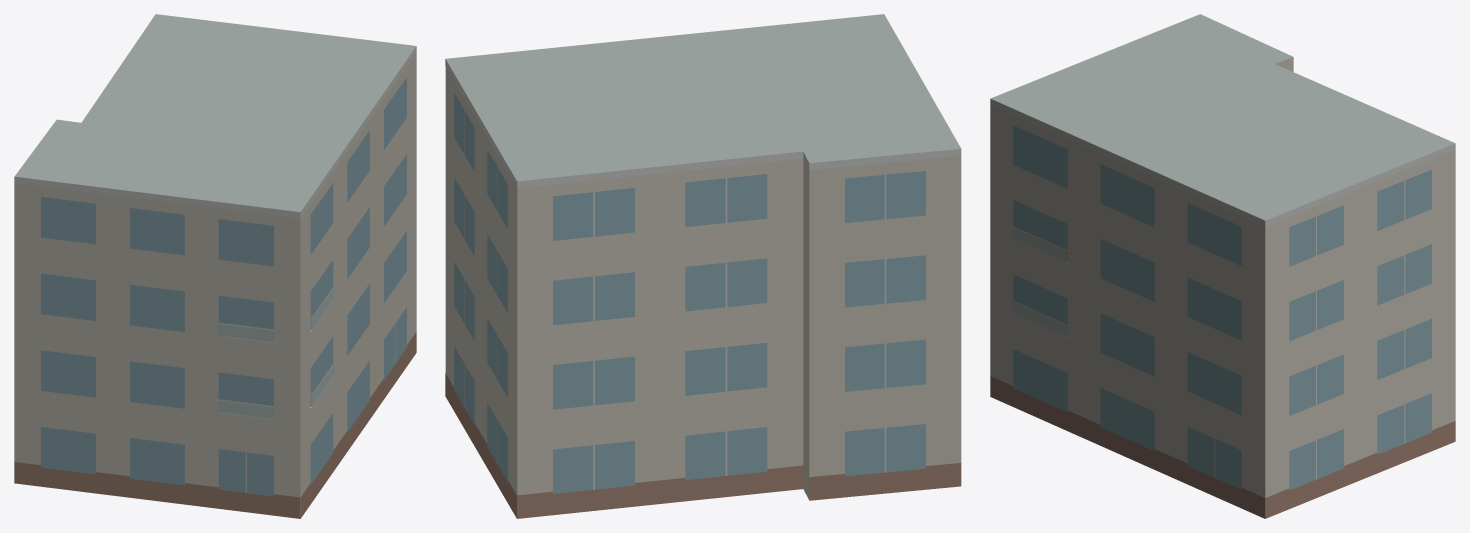
File: survey-upis-32886739.glb
3 renders of one model, left to right at view 1: azimuth 30°, elevation 25°; view 2: azimuth 150°, elevation 25°; view 3: azimuth 270°, elevation 25°, orthographic. The views are drawn at different scales.
Parts seen in each view (by area): view 1: survey-upis-32886739.tmp; view 2: survey-upis-32886739.tmp; view 3: survey-upis-32886739.tmp.
Boxes of the visible parts, x1,y1,x2,y2 form: survey-upis-32886739.tmp: (14,14,416,518); survey-upis-32886739.tmp: (445,14,961,518); survey-upis-32886739.tmp: (990,14,1455,518).
Size of the model in its own units: 17.48 by 11.76 by 16.64.
